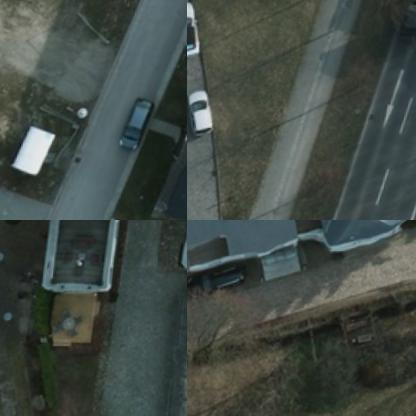car: (190, 262, 251, 310), (122, 100, 156, 158), (189, 92, 218, 146), (187, 3, 207, 64)
